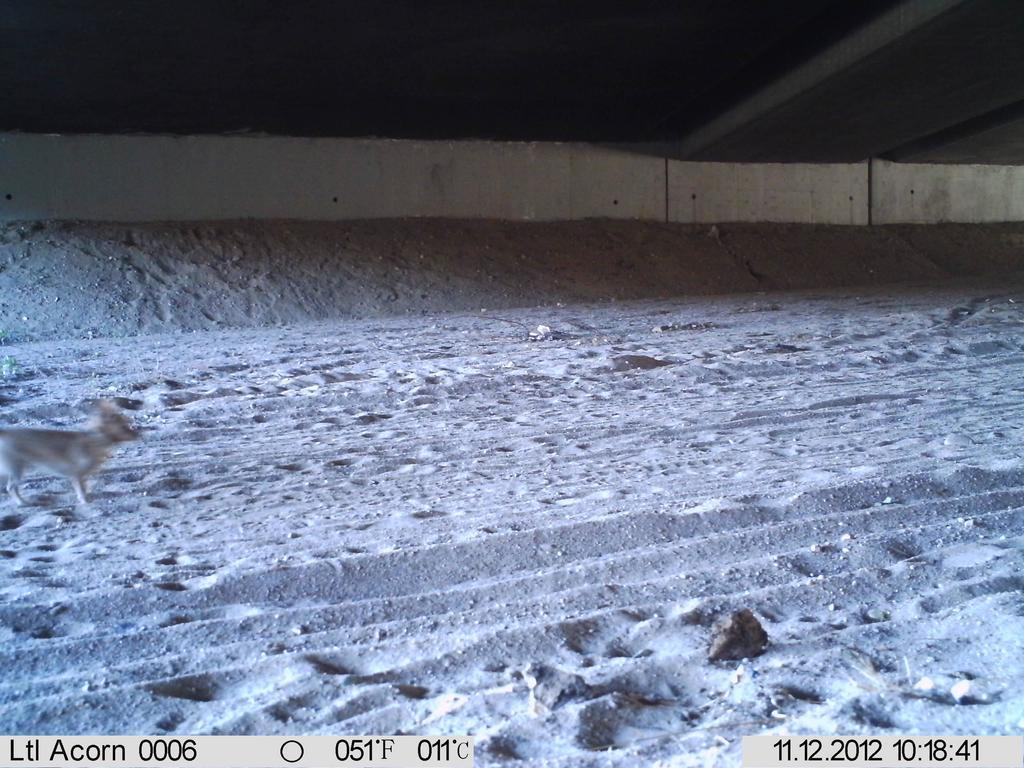dog: (1, 379, 154, 529)
